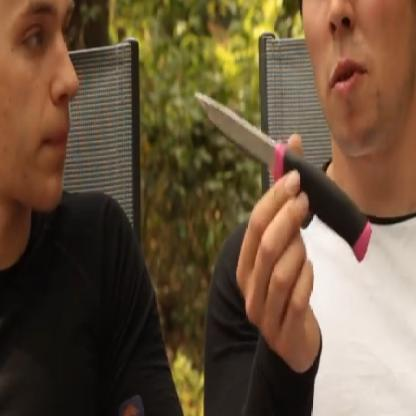knife: (182, 71, 378, 272)
